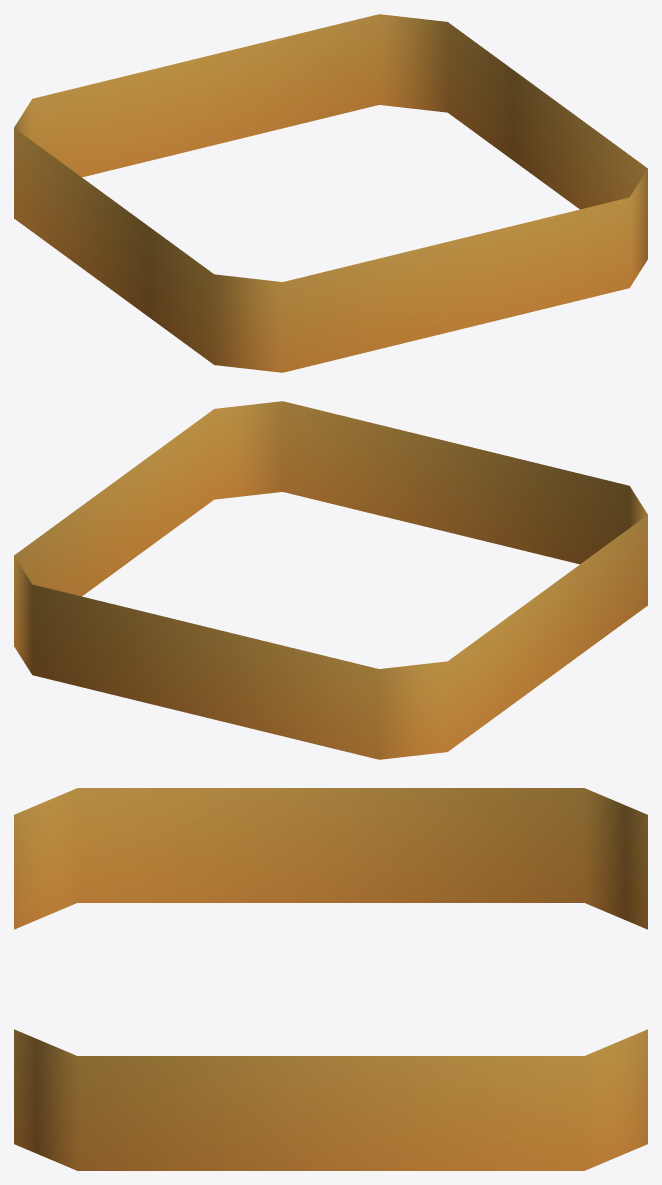
File: kenney-tower-defense-selection-b.glb
3 views of the same model, one above another, from view 1: azimuth 30°, elevation 25°; view 2: azimuth 150°, elevation 25°; view 3: azimuth 270°, elevation 25° (orthographic). The views are drawn at different scales.
Visible parts, largest first — view 1: selection-b; view 2: selection-b; view 3: selection-b.
Part boxes in pixels (box(x1,y1,x2,y2)): selection-b: box(14, 14, 647, 372); selection-b: box(14, 401, 647, 759); selection-b: box(14, 788, 647, 1170).
Size of the model in its own units: 1 by 0.2 by 1.
Materials: 1 (1 with a texture image).
